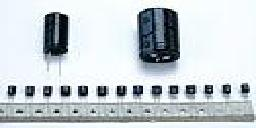Electrolytic-capacitor: (135, 7, 184, 73), (40, 11, 70, 77), (5, 87, 21, 102), (23, 84, 38, 100), (94, 84, 111, 98), (41, 85, 54, 100), (59, 83, 71, 98), (77, 83, 88, 99)
